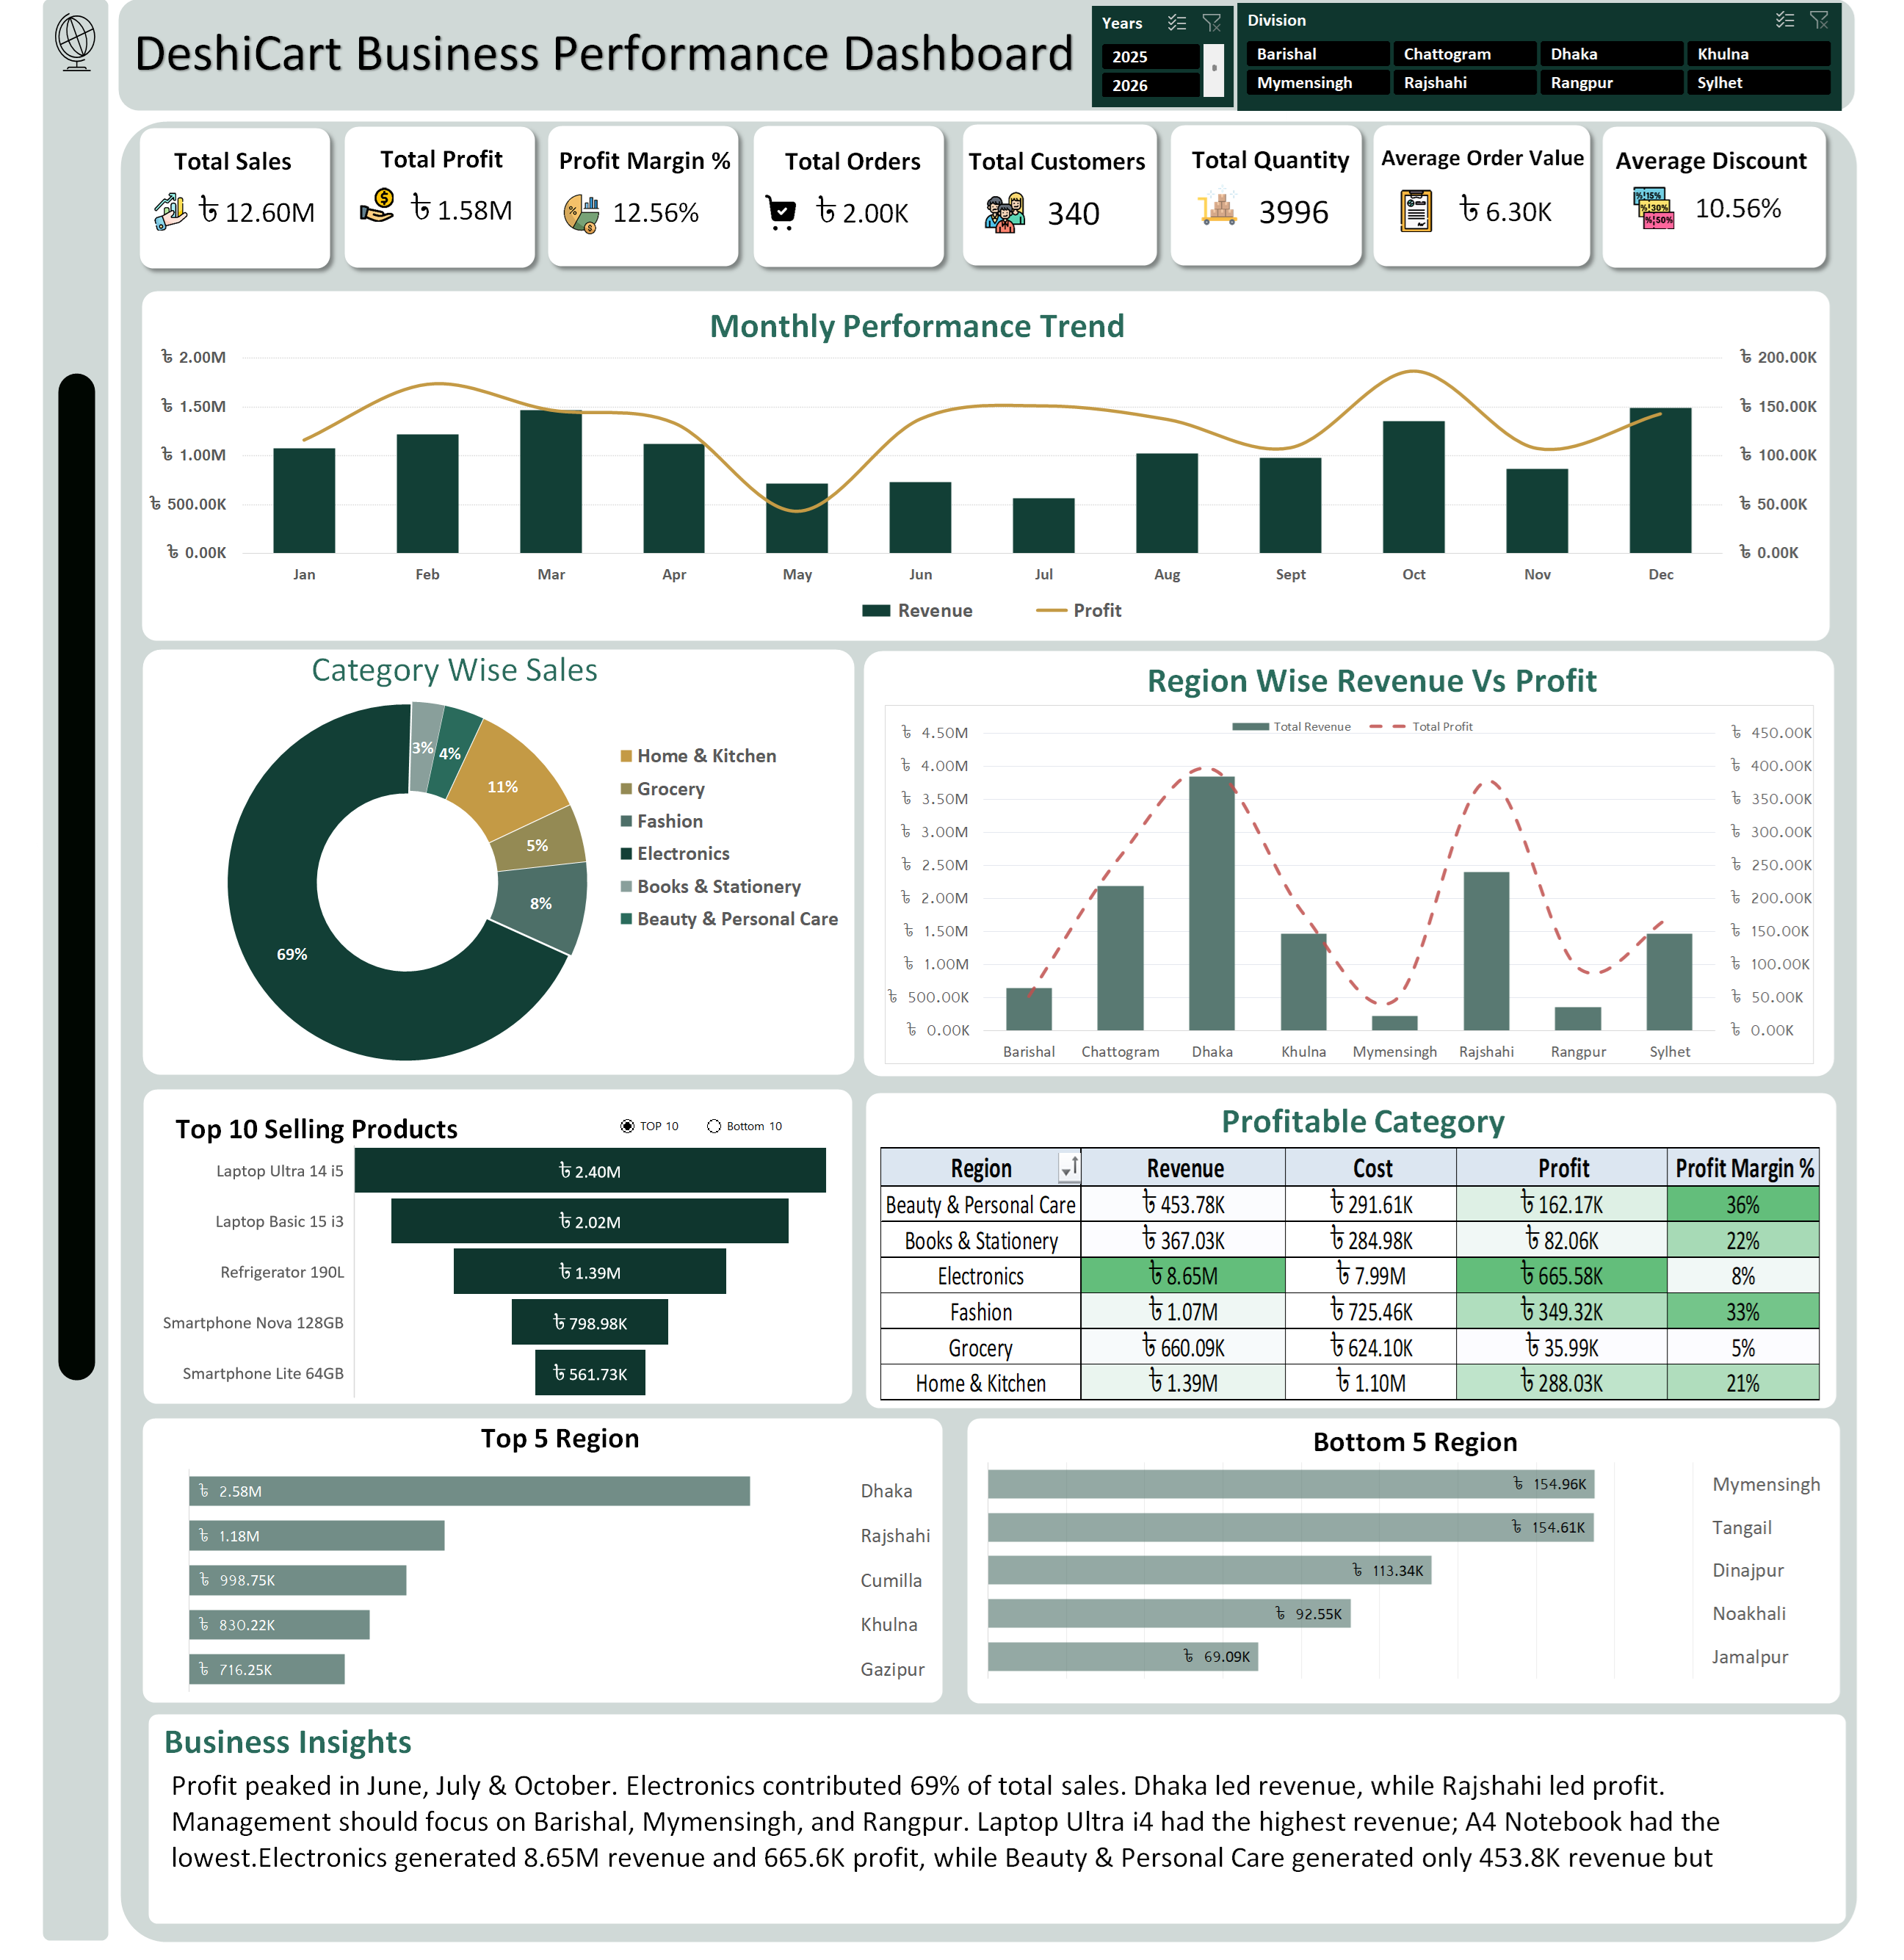

This screenshot's page, from the dashboard's own definition file:
{"tool":"powerbi","page":{"name":"Page 1","canvas":[1920,1080],"ordinal":0},"visuals":[{"type":"cardVisual","title":"Total Sales","fields":{"Data":["Sum(Clean_data.Revenue)"]},"box":[0,100,242,130],"z":0},{"type":"cardVisual","title":"Total Profit","fields":{"Data":["Sum(Clean_data.Profit)"]},"box":[242,100,248,130],"z":1000},{"type":"cardVisual","title":"Profit Margin %","fields":{"Data":["Clean_data.Profit Margin %"]},"box":[490,100,230,130],"z":2000},{"type":"cardVisual","title":"Total Orders","fields":{"Data":["CountNonNull(Clean_data.OrderID)"]},"box":[720,100,212,128],"z":3000},{"type":"cardVisual","title":"Quantity Sold","fields":{"Data":["Sum(Clean_data.Quantity)"]},"box":[932,100,256,126],"z":4000},{"type":"cardVisual","title":"Avg Order Value","fields":{"Data":["Clean_data.Avg Order Value"]},"box":[1640,100,280,126],"z":5000},{"type":"cardVisual","title":"Discount %","fields":{"Data":["Avg(Clean_data.Discount)"]},"box":[1442,100,198,126],"z":6000},{"type":"cardVisual","title":"Total Customer","fields":{"Data":["Count(Clean_data.CustomerID)"]},"box":[1188,100,256,126],"z":7000},{"type":"lineStackedColumnComboChart","title":" Month wise Profit and  Revenue","fields":{"Category":["Clean_data.OrderDate.Variation.Date Hierarchy.Month"],"Y2":["Sum(Clean_data.Revenue)"],"Y":["Sum(Clean_data.Profit)"]},"box":[2,230,987.5,380],"z":8000},{"type":"pieChart","title":"Revenue by Category","fields":{"Category":["Clean_data.Category"],"Y":["Sum(Clean_data.Revenue)"]},"box":[0,612,495,365],"z":9000},{"type":"clusteredColumnChart","title":"Revenue and Profit by Division","fields":{"Category":["Clean_data.Division"],"Y":["Sum(Clean_data.Revenue)","Sum(Clean_data.Profit)"]},"box":[988,230,932.5,382.5],"z":10000},{"type":"funnel","title":"Top 5 Products","fields":{"Category":["Clean_data.ProductName"],"Y":["Sum(Clean_data.Revenue)"]},"box":[496.3,615.6,493.9,362.7],"z":11000},{"type":"clusteredBarChart","title":"Top 5 region","fields":{"Category":["Clean_data.District"],"Y":["Sum(Clean_data.Revenue)"]},"box":[990,612,452.5,365],"z":12000},{"type":"clusteredBarChart","title":"Bottom 5 Region","fields":{"Category":["Clean_data.District"],"Y":["Sum(Clean_data.Revenue)"]},"box":[1442,612,477.5,365],"z":13000},{"type":"textbox","box":[31,978.2,1889.6,102.6],"z":14000},{"type":"textbox","box":[0,0,932,78],"z":15000},{"type":"slicer","fields":{"Values":["Clean_data.OrderDate"]},"box":[978,0,300,100],"z":16000},{"type":"slicer","fields":{"Values":["Clean_data.OrderDate.Variation.Date Hierarchy.Month"]},"box":[1296,0,264,100],"z":17000}]}

Visuals, with their boxes on the page's 1920x1080 design canvas (x1, y1, x2, y2). These are canvas units, not pixel positions in the 1904x1960 screenshot, which may show the page scaled, cropped or inside an application window:
"Total Sales" cardVisual: select_region(0, 100, 242, 230)
"Total Profit" cardVisual: select_region(242, 100, 490, 230)
"Profit Margin %" cardVisual: select_region(490, 100, 720, 230)
"Total Orders" cardVisual: select_region(720, 100, 932, 228)
"Quantity Sold" cardVisual: select_region(932, 100, 1188, 226)
"Avg Order Value" cardVisual: select_region(1640, 100, 1920, 226)
"Discount %" cardVisual: select_region(1442, 100, 1640, 226)
"Total Customer" cardVisual: select_region(1188, 100, 1444, 226)
" Month wise Profit and  Revenue" lineStackedColumnComboChart: select_region(2, 230, 990, 610)
"Revenue by Category" pieChart: select_region(0, 612, 495, 977)
"Revenue and Profit by Division" clusteredColumnChart: select_region(988, 230, 1920, 612)
"Top 5 Products" funnel: select_region(496, 616, 990, 978)
"Top 5 region" clusteredBarChart: select_region(990, 612, 1442, 977)
"Bottom 5 Region" clusteredBarChart: select_region(1442, 612, 1920, 977)
textbox: select_region(31, 978, 1921, 1081)
textbox: select_region(0, 0, 932, 78)
slicer - Clean_data.OrderDate: select_region(978, 0, 1278, 100)
slicer - Clean_data.OrderDate.Variation.Date Hierarchy.Month: select_region(1296, 0, 1560, 100)
